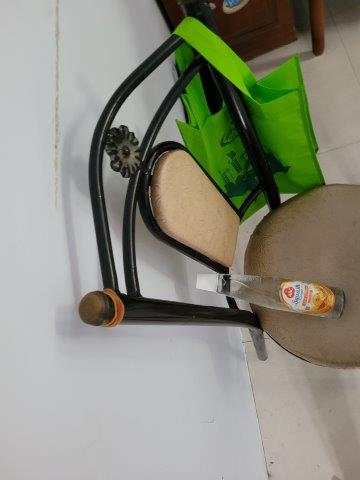botolkaca: (194, 271, 345, 319)
